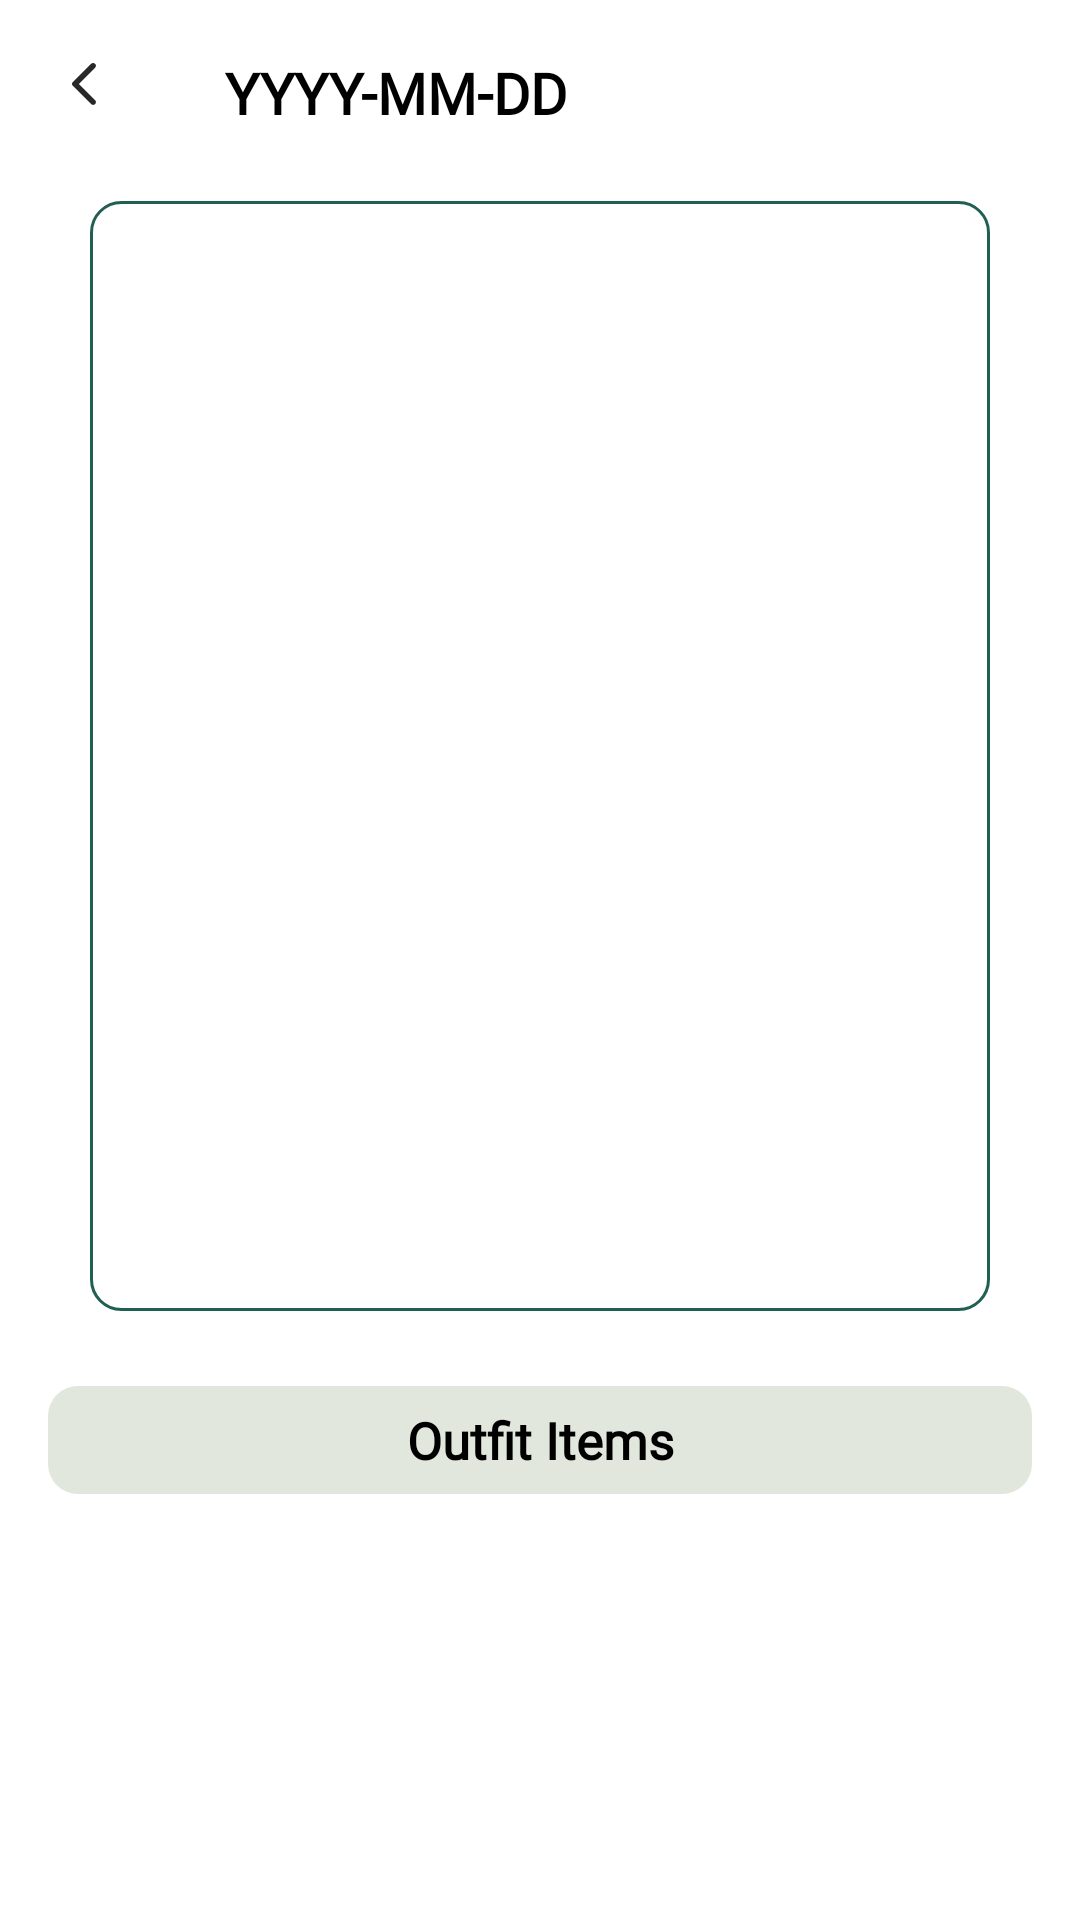

Screen size 1080 x 1920. Icon name, then its box in pixels as bbox(x1, y1, x2, y2):
back: bbox(72, 63, 96, 105)
